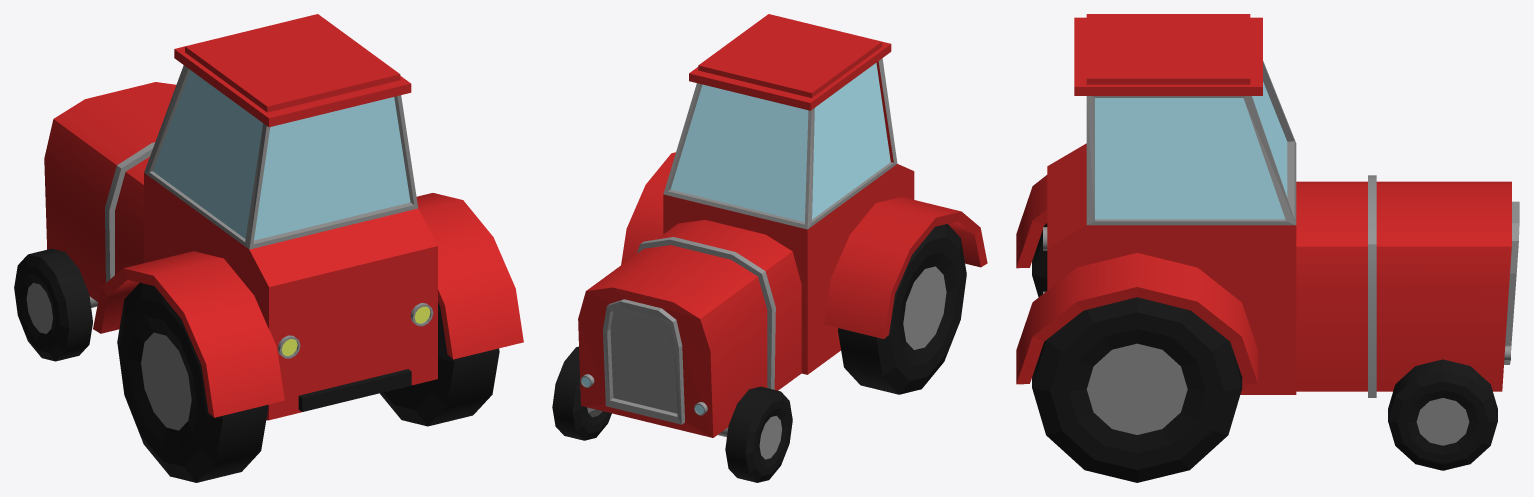
Rendered from Truck.fbx.
3 renders of one model, left to right at view 1: azimuth 30°, elevation 25°; view 2: azimuth 150°, elevation 25°; view 3: azimuth 270°, elevation 25°, orthographic. The views are drawn at different scales.
Visible parts, largest first — view 1: Truck; view 2: Truck; view 3: Truck.
Part boxes in pixels (bbox=[...]): Truck: bbox=[14, 14, 523, 482]; Truck: bbox=[552, 14, 987, 482]; Truck: bbox=[1016, 14, 1519, 482].
Size of the model in its own units: 19.77 by 22.64 by 27.94.
